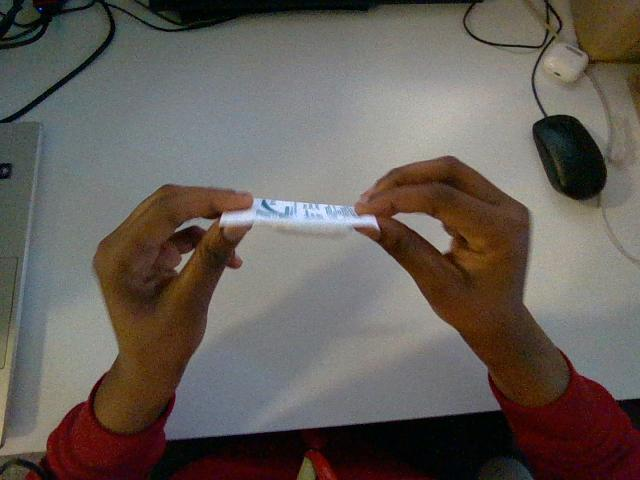gauze: (220, 198, 378, 235)
